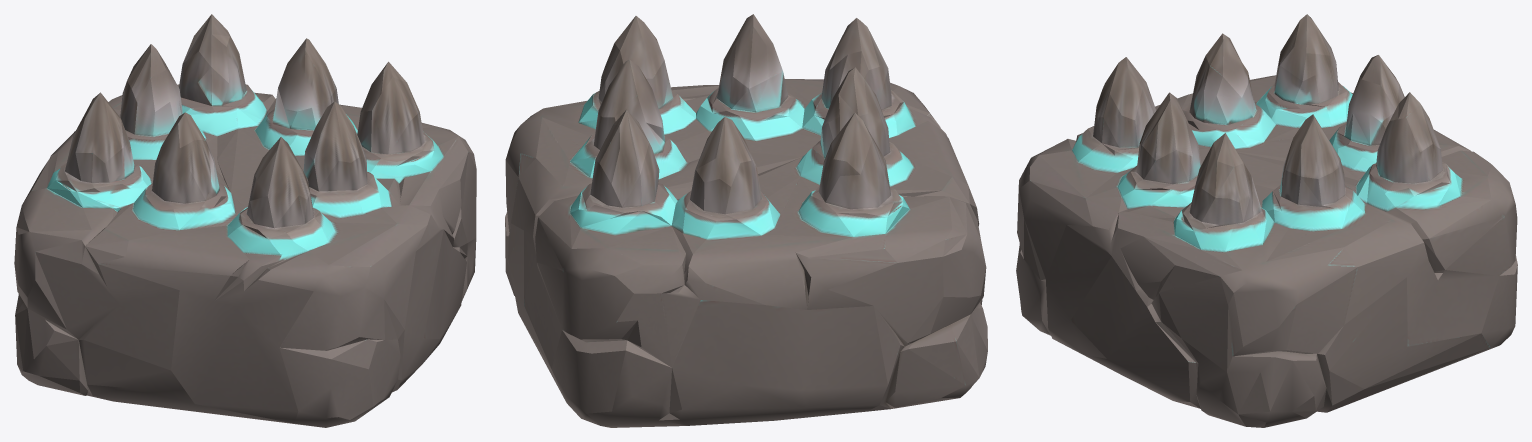
Rendered from spike-trap.glb.
The picture shows the model from 3 angles, left to right: view 1: azimuth 30°, elevation 25°; view 2: azimuth 150°, elevation 25°; view 3: azimuth 270°, elevation 25°; orthographic projection. The views are drawn at different scales.
Bounding box in the file's own units: 1.9 × 1.08 × 1.89.
1 material, 1 textured.
